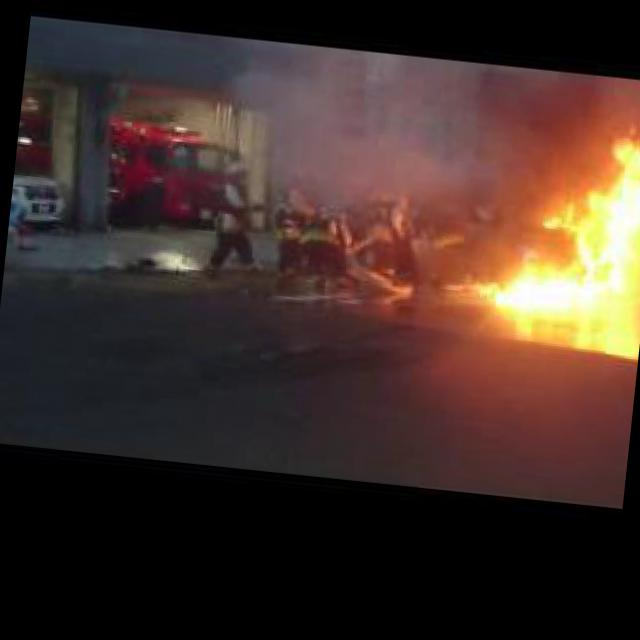fire: (474, 124, 640, 333)
